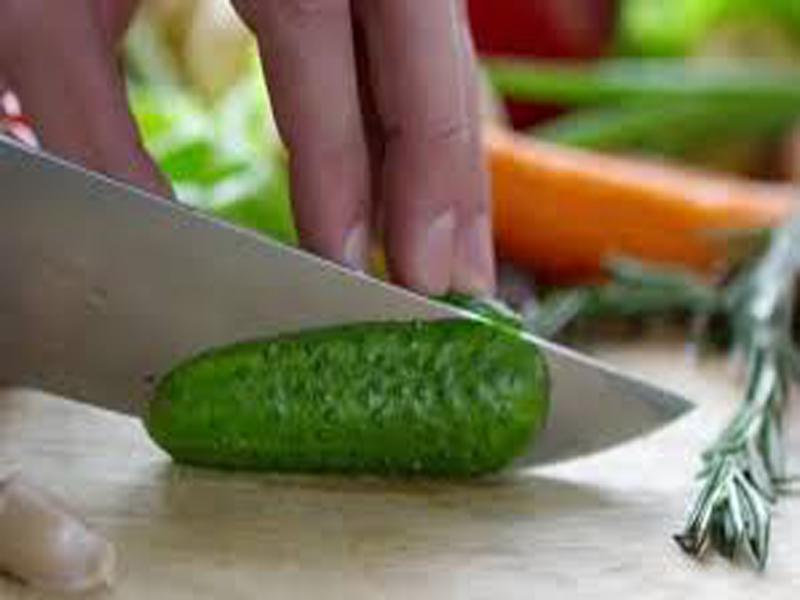Cucumber: (147, 318, 551, 482)
